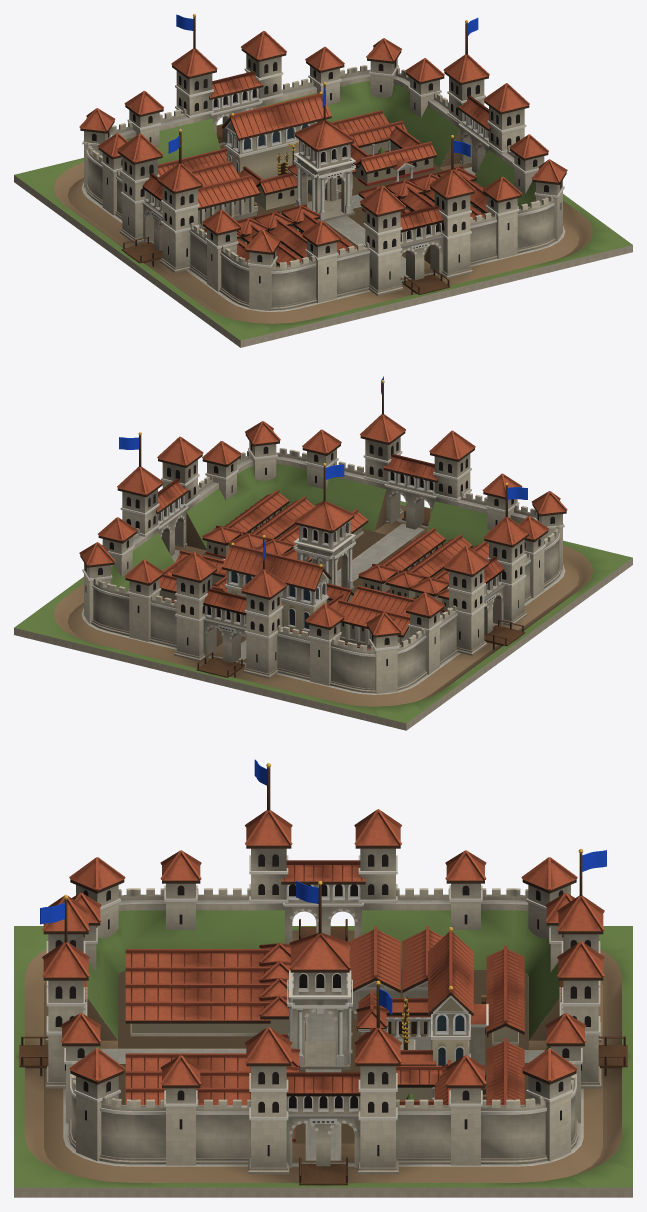
The model's file is lm_castra.glb.
The picture shows the model from 3 angles, top to bottom: view 1: azimuth 30°, elevation 25°; view 2: azimuth 150°, elevation 25°; view 3: azimuth 270°, elevation 25°; orthographic projection. The views are drawn at different scales.
Parts seen in each view (by area): view 1: lm_castra; view 2: lm_castra; view 3: lm_castra.
Boxes of the visible parts, left/top/right/bottom form: lm_castra: left=14, top=14, right=632, bottom=347; lm_castra: left=14, top=376, right=632, bottom=730; lm_castra: left=14, top=759, right=632, bottom=1197.
Bounding box in the file's own units: 2.26 × 0.7847 × 2.26.
1 material, 1 textured.
